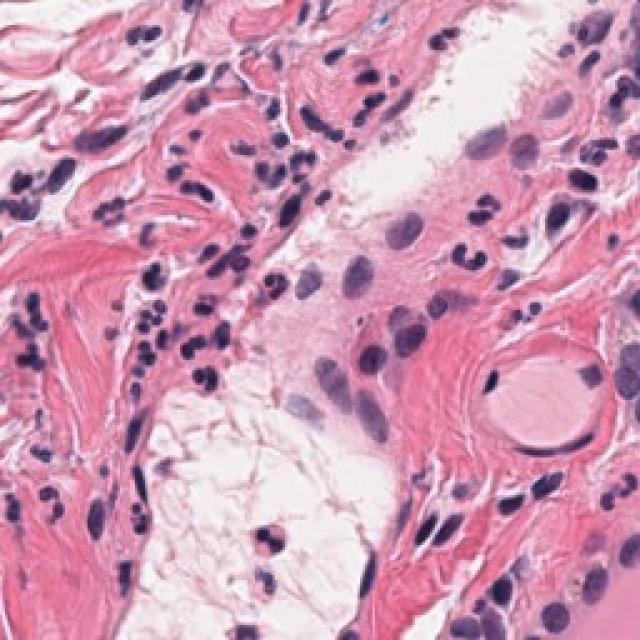normal: (452, 99, 514, 183), (350, 378, 414, 458), (326, 227, 384, 312), (387, 296, 445, 376), (574, 546, 626, 612), (540, 577, 590, 640), (345, 329, 396, 383), (387, 193, 433, 251), (610, 342, 640, 403), (614, 523, 640, 579)
